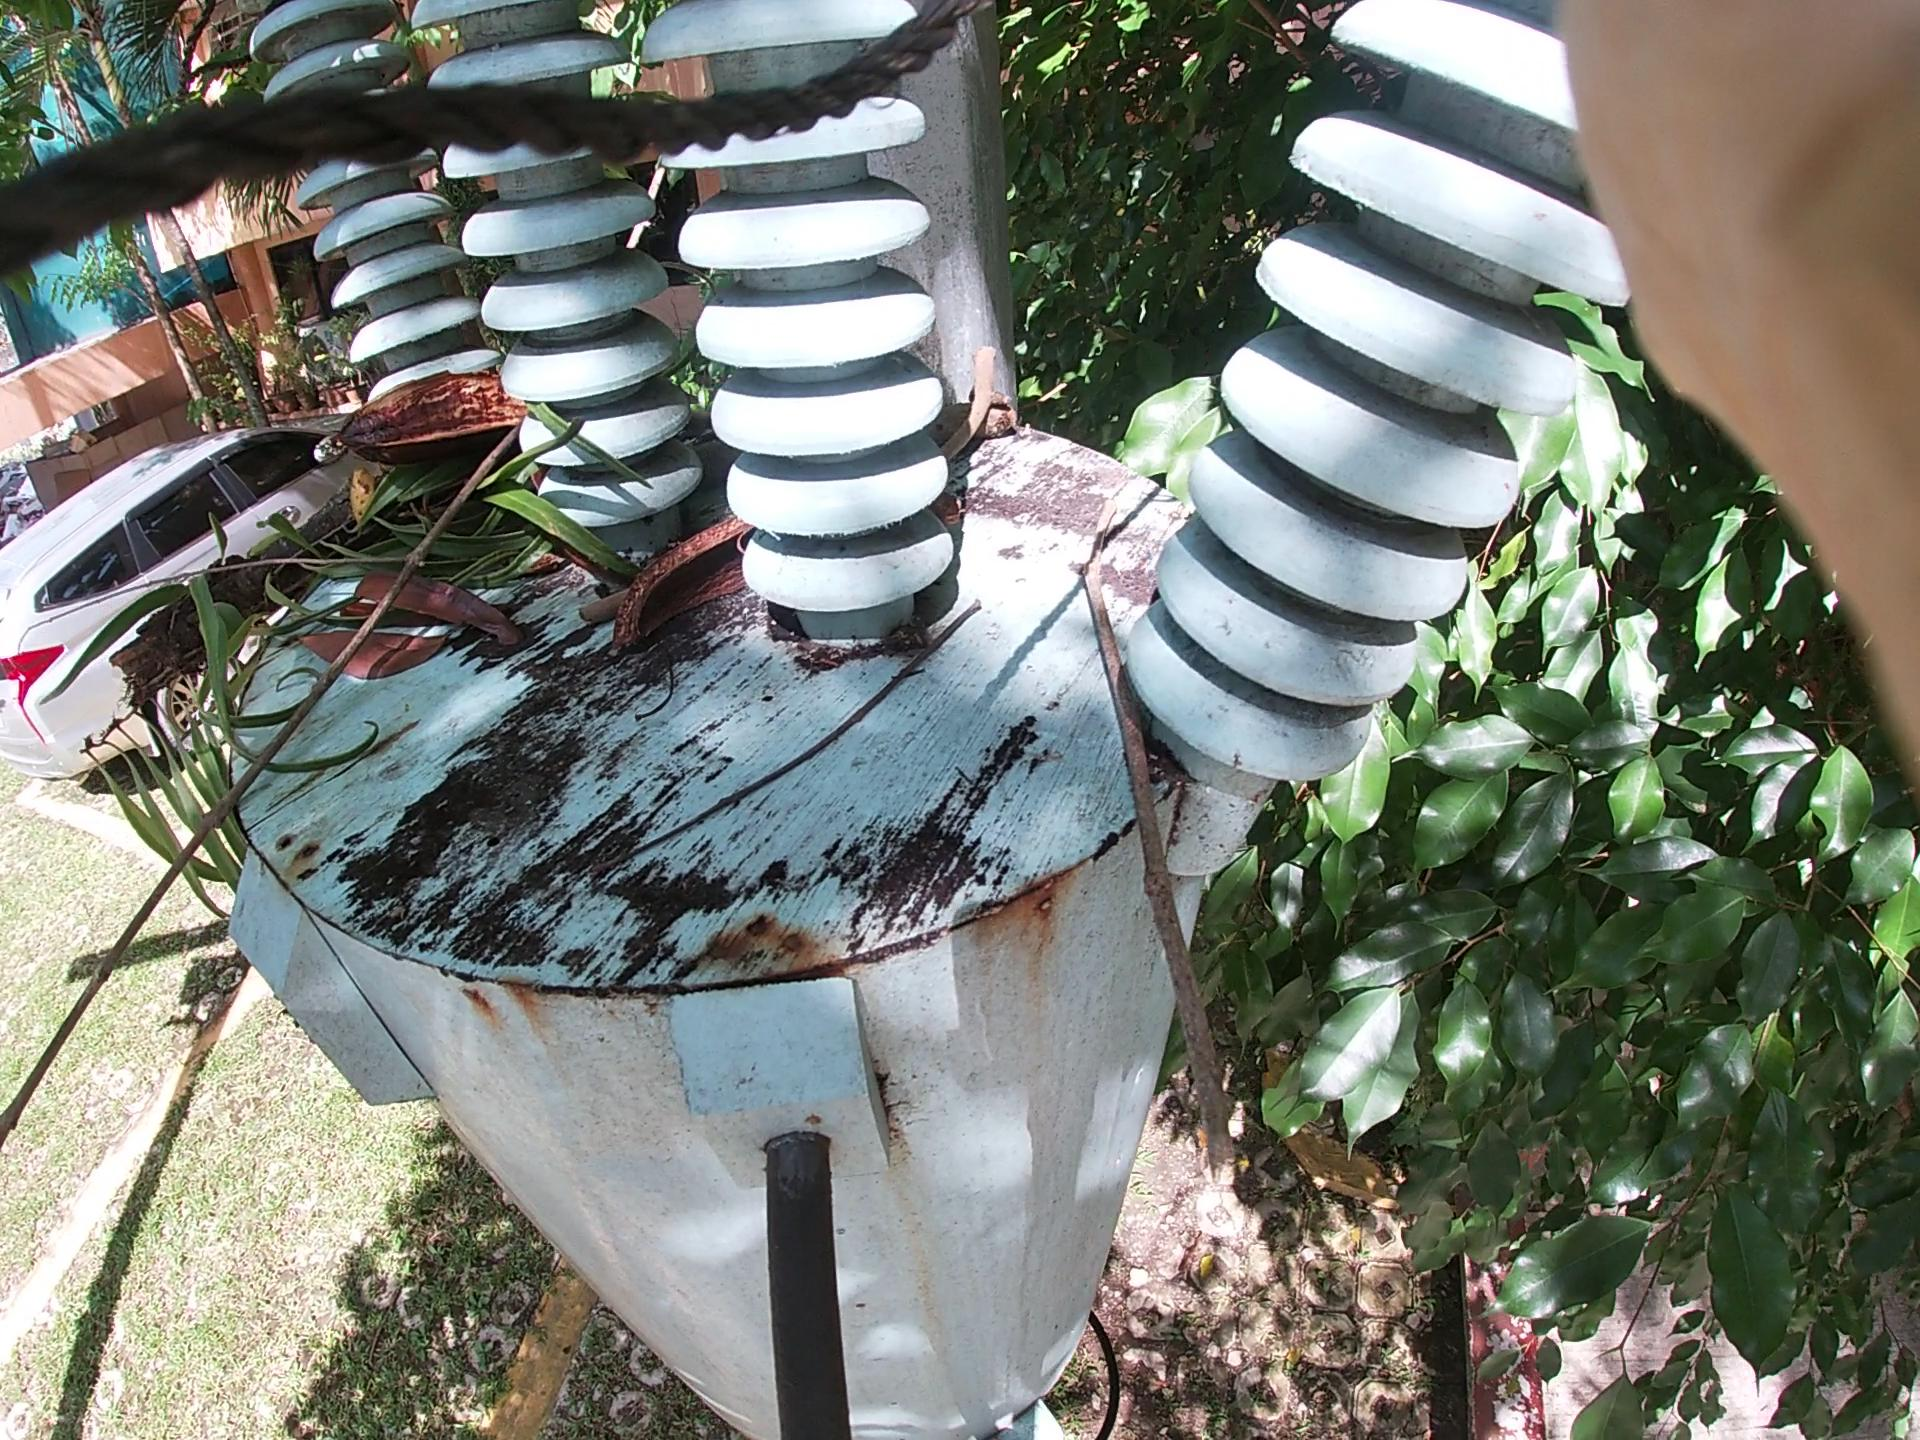branch with leaves: (172, 309, 612, 787)
leaf: (228, 575, 437, 722)
mahogany fruit: (540, 493, 838, 672), (310, 337, 517, 510)
tree branch: (39, 442, 523, 1044), (550, 355, 1011, 632), (608, 594, 1008, 861), (1081, 535, 1225, 1165)
